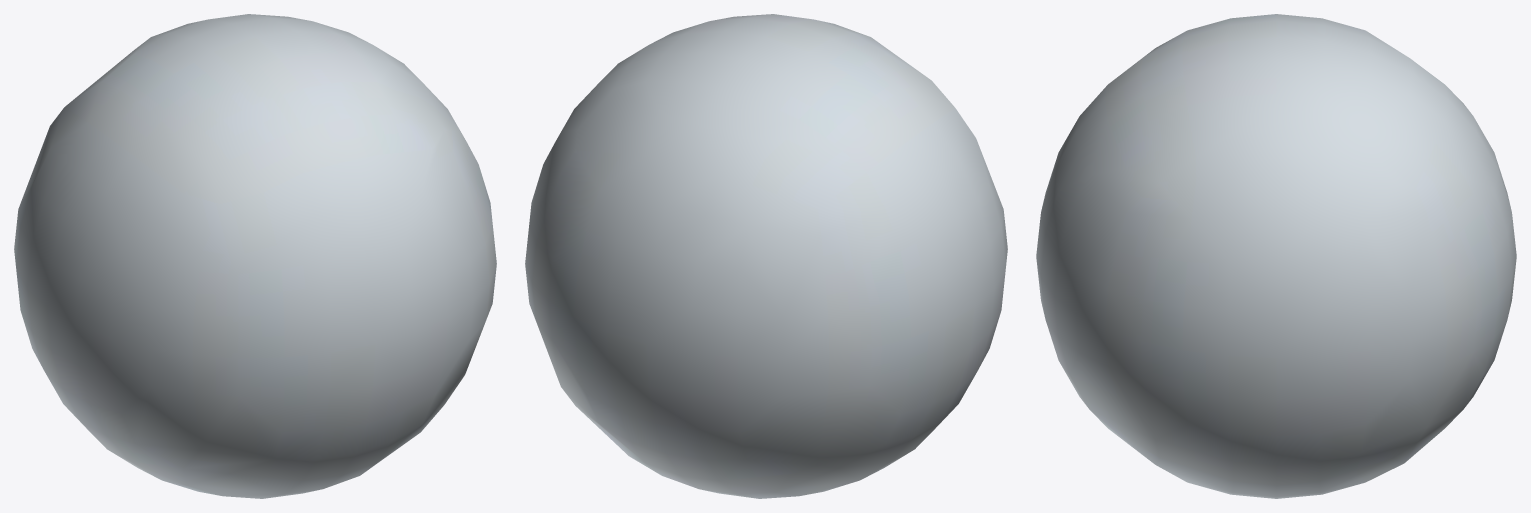
File: dung-beetle-ball.glb
3 views of the same model, side by side, from view 1: azimuth 30°, elevation 25°; view 2: azimuth 150°, elevation 25°; view 3: azimuth 270°, elevation 25° (orthographic).
Bounding box in the file's own units: 9.91 × 9.99 × 9.91.
1 material, 1 textured.
